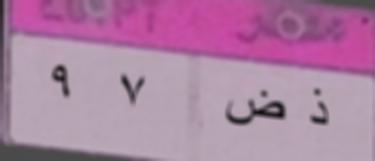7: (117, 70, 149, 110)
9: (44, 60, 76, 105)
daad: (221, 86, 290, 134)
zaal: (304, 77, 336, 142)
